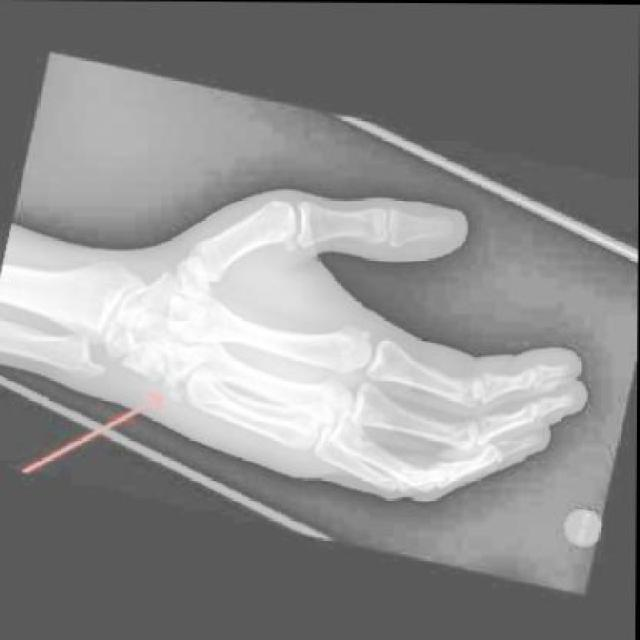Fracture: (159, 369, 190, 397)
